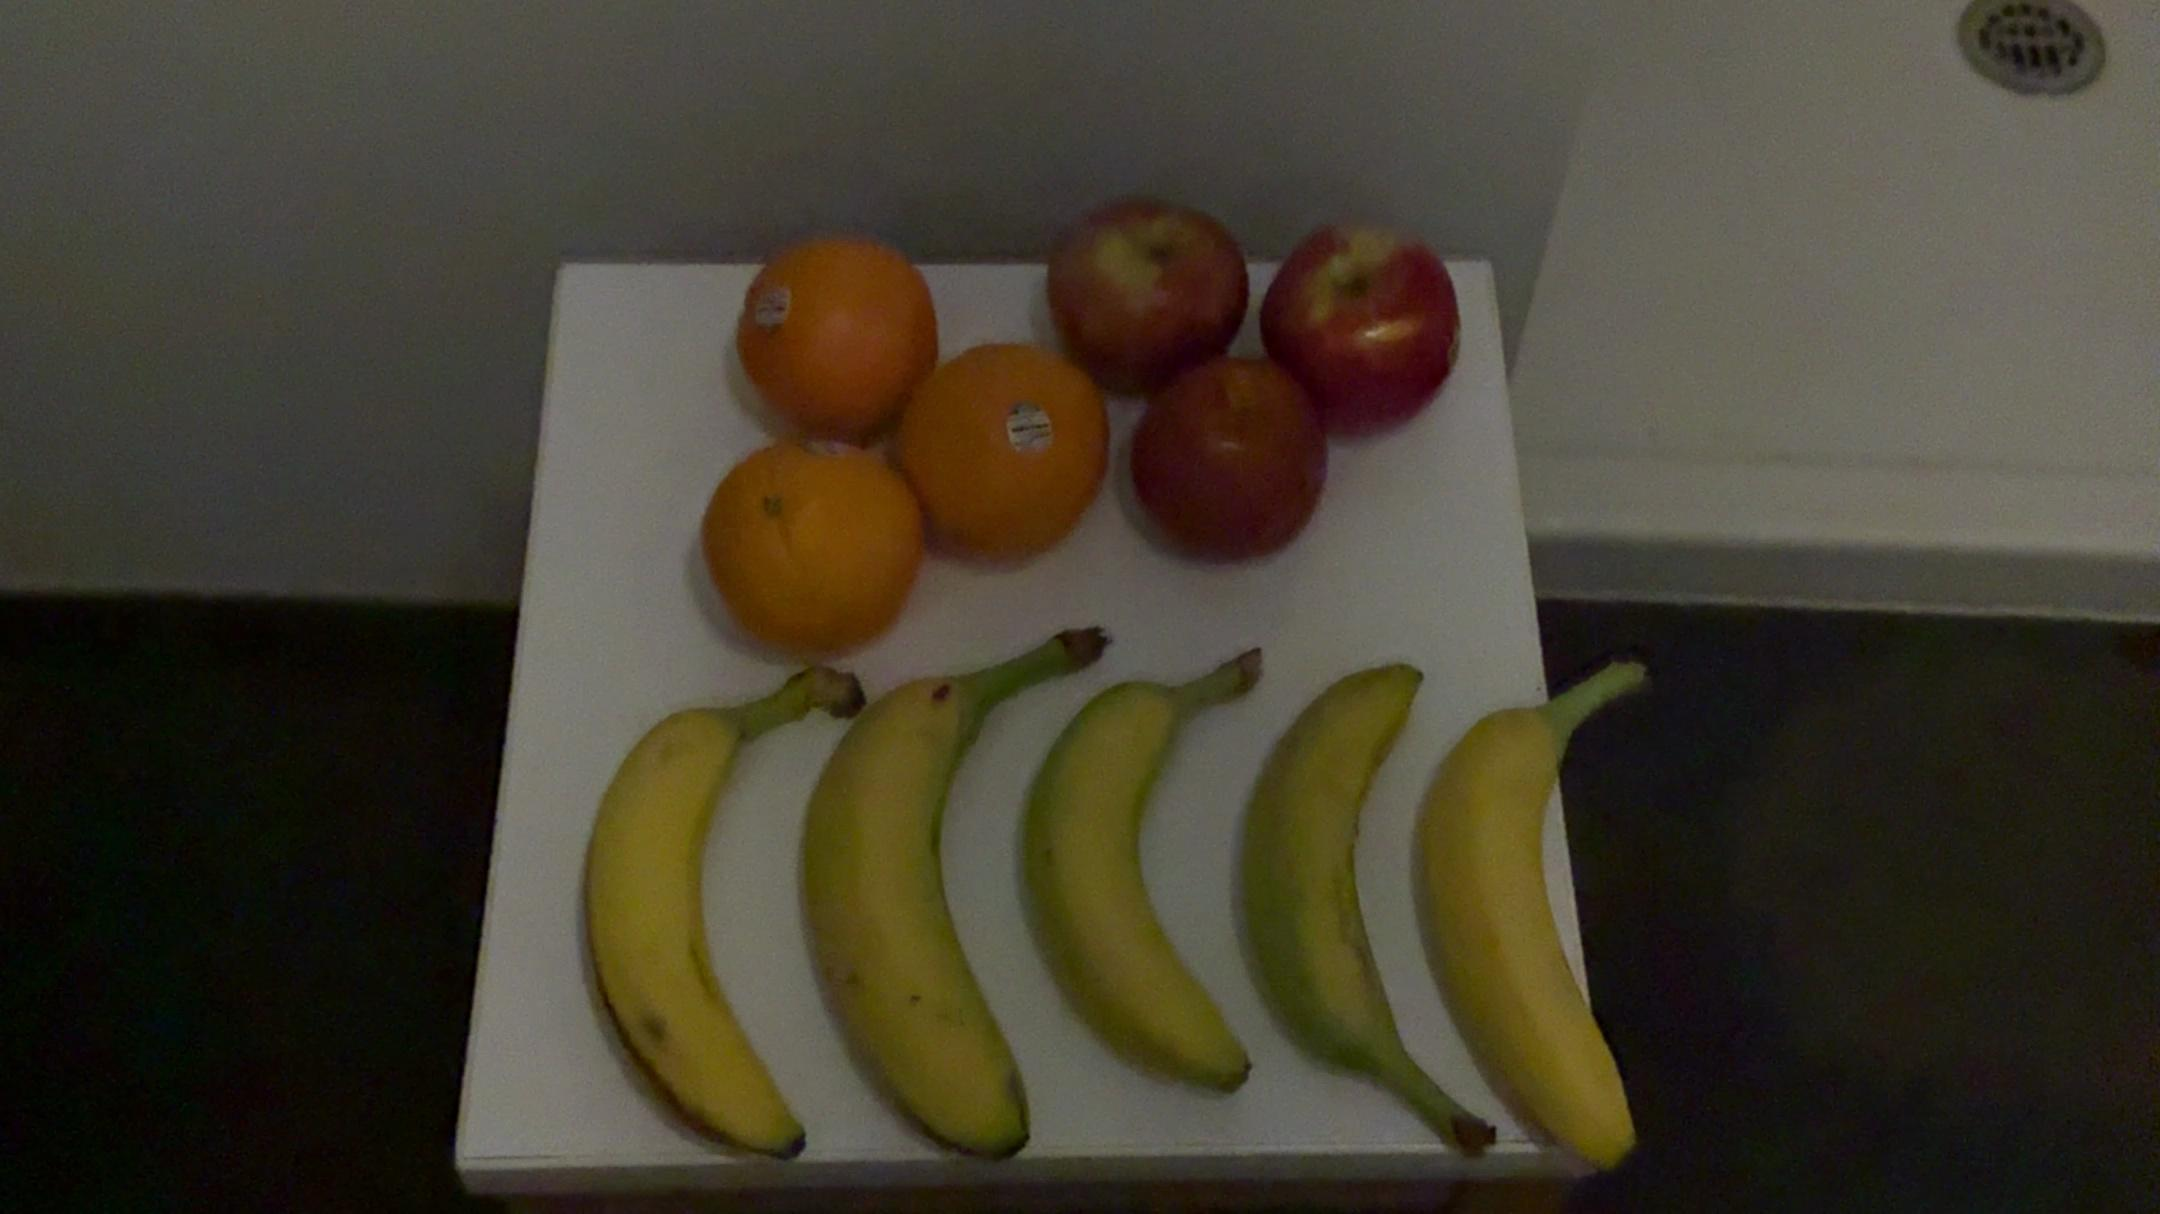apple: (1245, 211, 1466, 430), (1038, 193, 1257, 401), (1129, 361, 1326, 580)
banana: (800, 608, 1111, 1175), (1227, 643, 1504, 1169), (1415, 640, 1665, 1193), (570, 657, 826, 1172), (1024, 626, 1271, 1116)
orange: (889, 335, 1114, 585), (717, 221, 944, 445), (697, 433, 918, 659)
